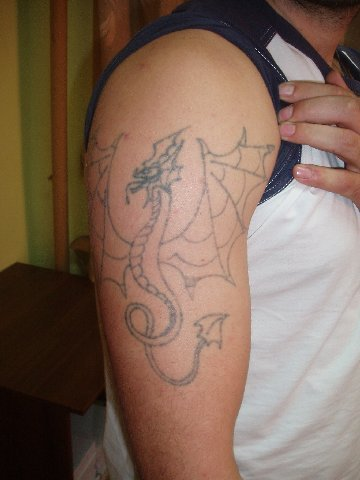tatu6_drakon: (68, 116, 282, 417)
